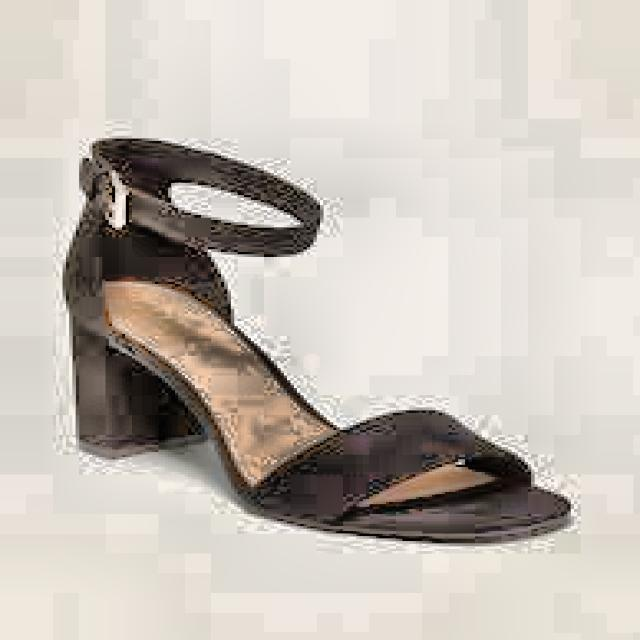shoes: (50, 136, 567, 544), (10, 0, 627, 156)
